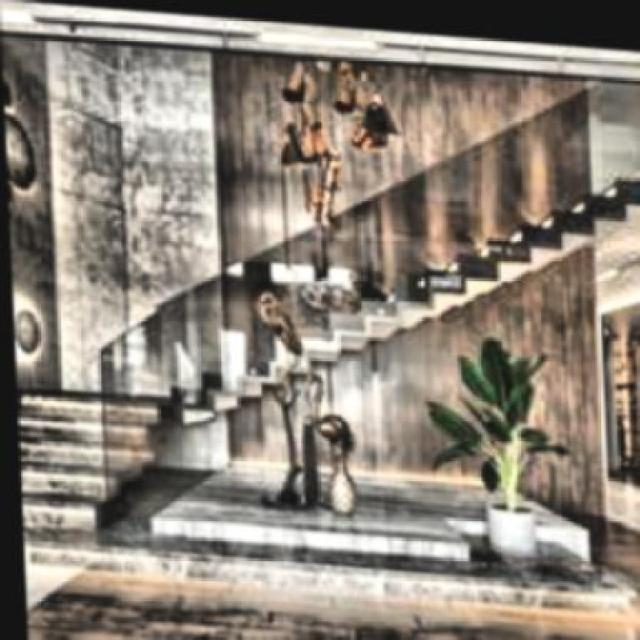stair: (14, 377, 197, 557)
